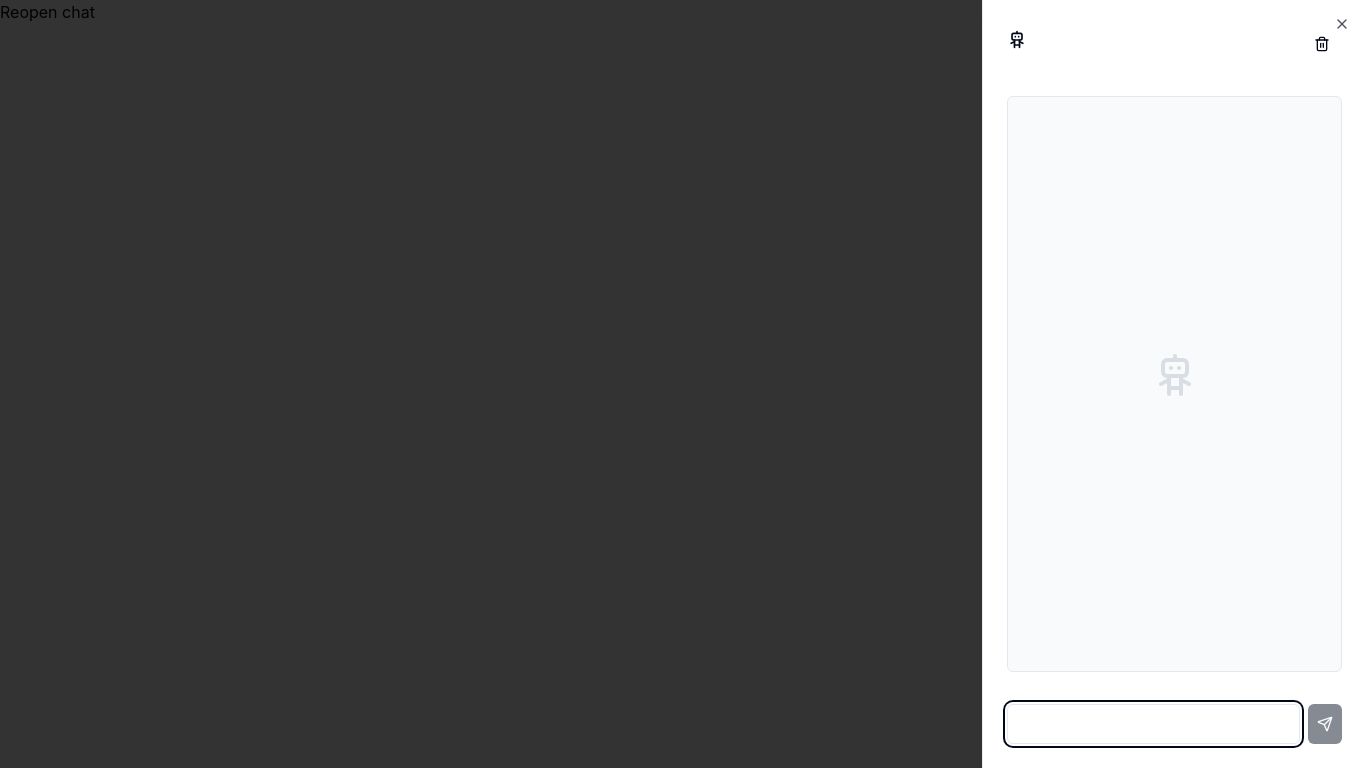
Scenario: AiChat › shows a rejected Enter submission in the conversation and allows another message
Type "Check hosts" into the field. click: (1153, 724)
box: [1007, 704, 1300, 744]
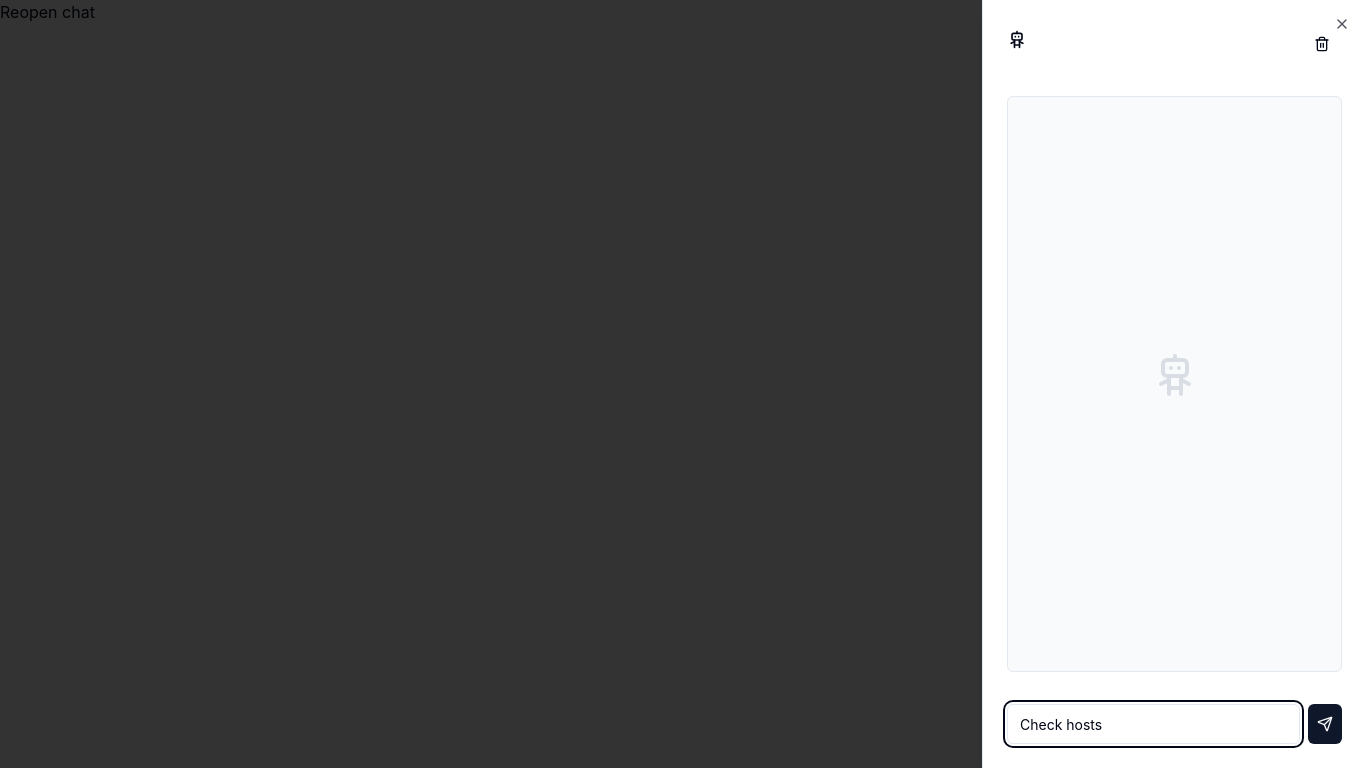
Press Enter in the field, box [1007, 704, 1300, 744]
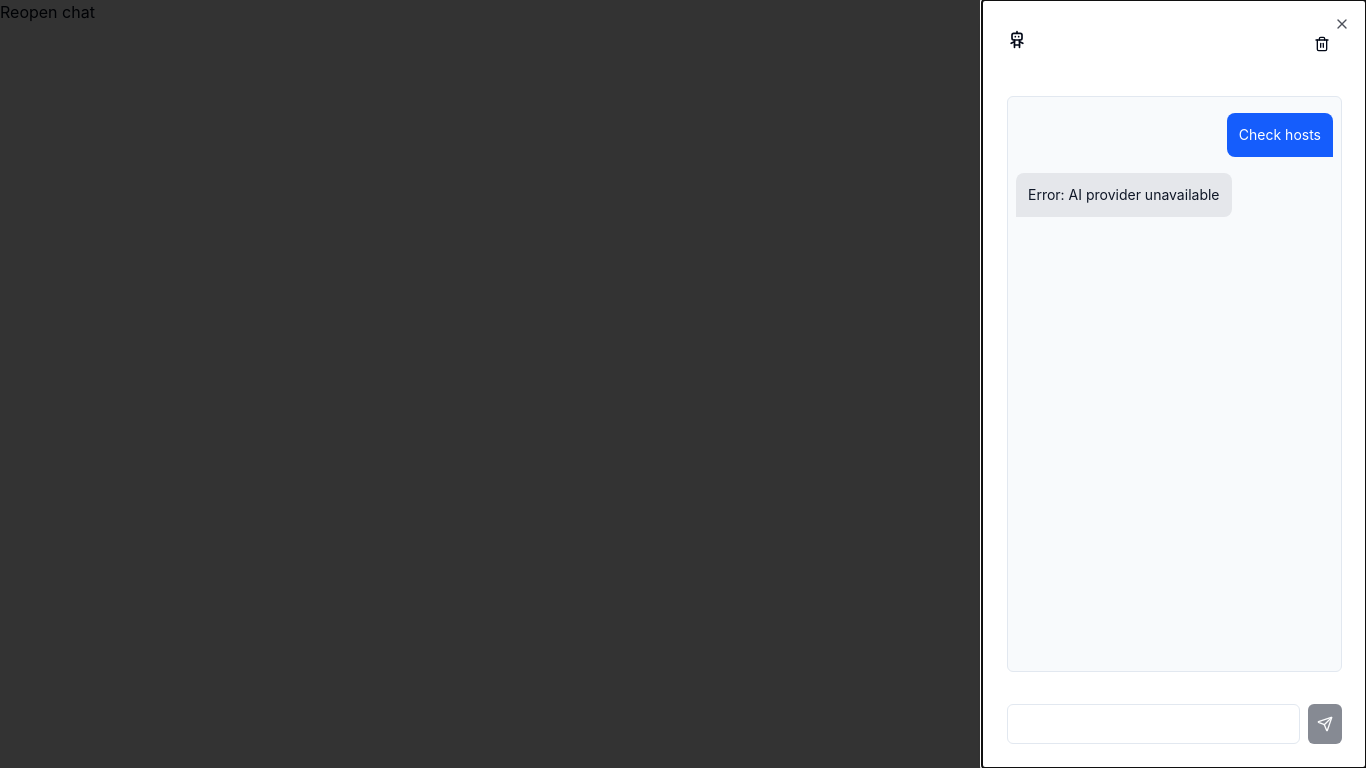
Result: the text "Error: AI provider unavailable" is shown at [1028, 185, 1220, 205]
Type "Retry host check" into the field. click: (1153, 724)
box: [1007, 704, 1300, 744]
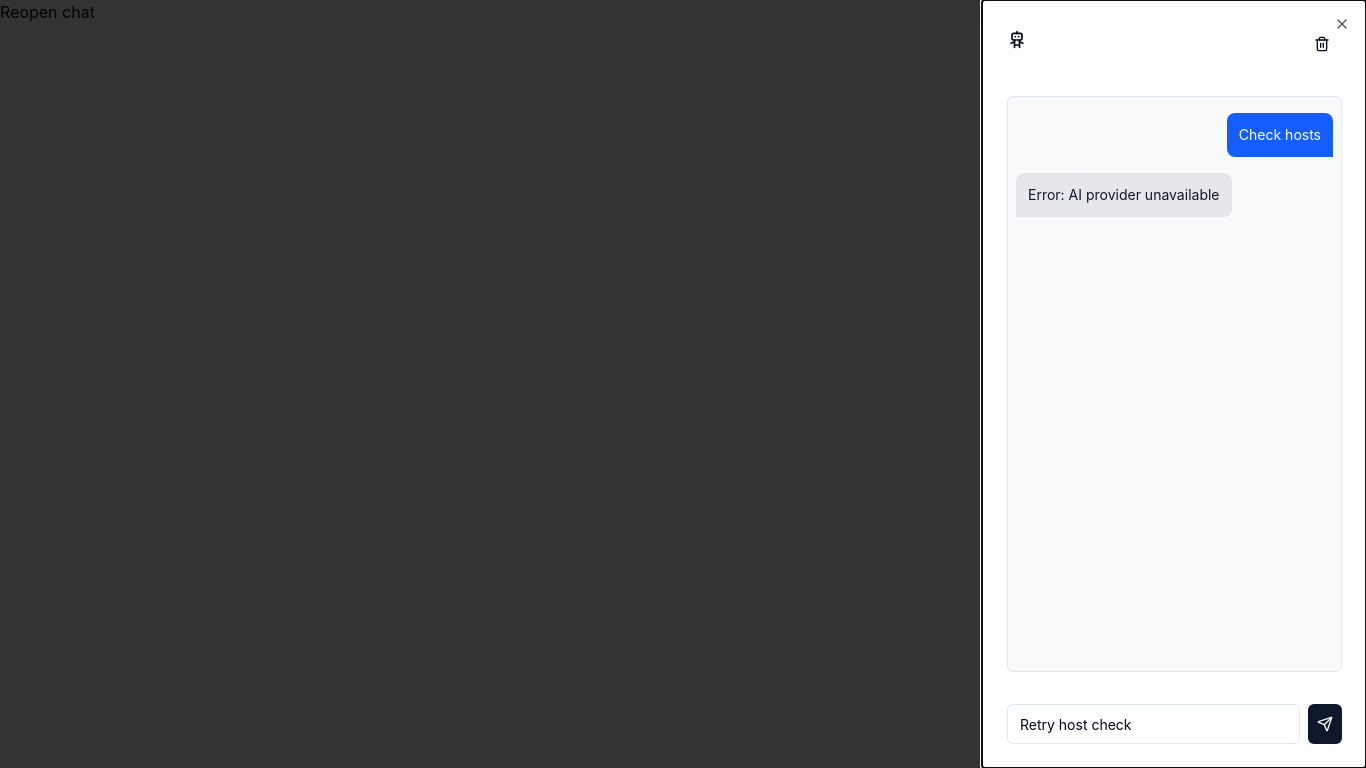
Press Enter in the field, box [1007, 704, 1300, 744]
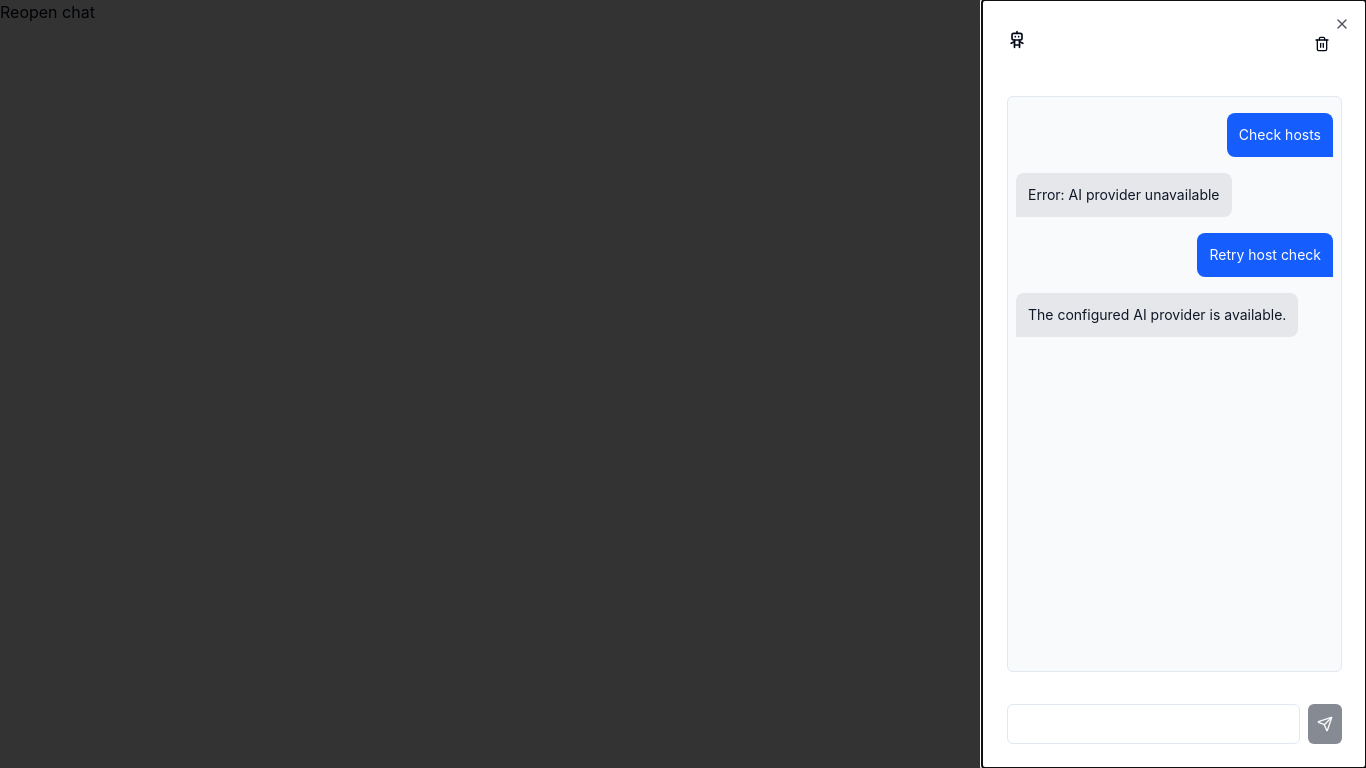
Result: the text "The configured AI provider is available." is shown at [1028, 305, 1286, 325]
